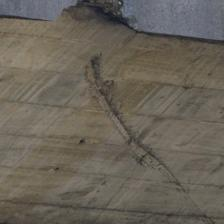Crack: (47, 32, 133, 152)
